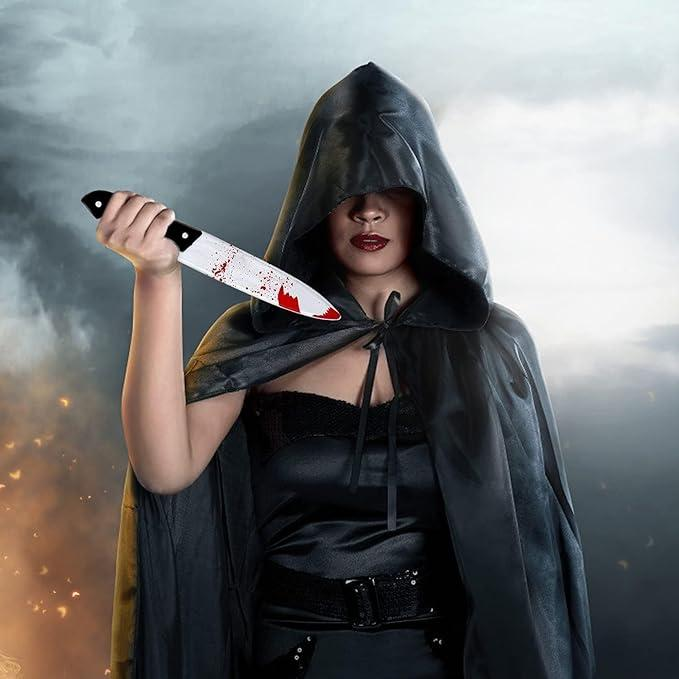Knife: (97, 62, 597, 679), (171, 216, 340, 326), (98, 193, 182, 273)
